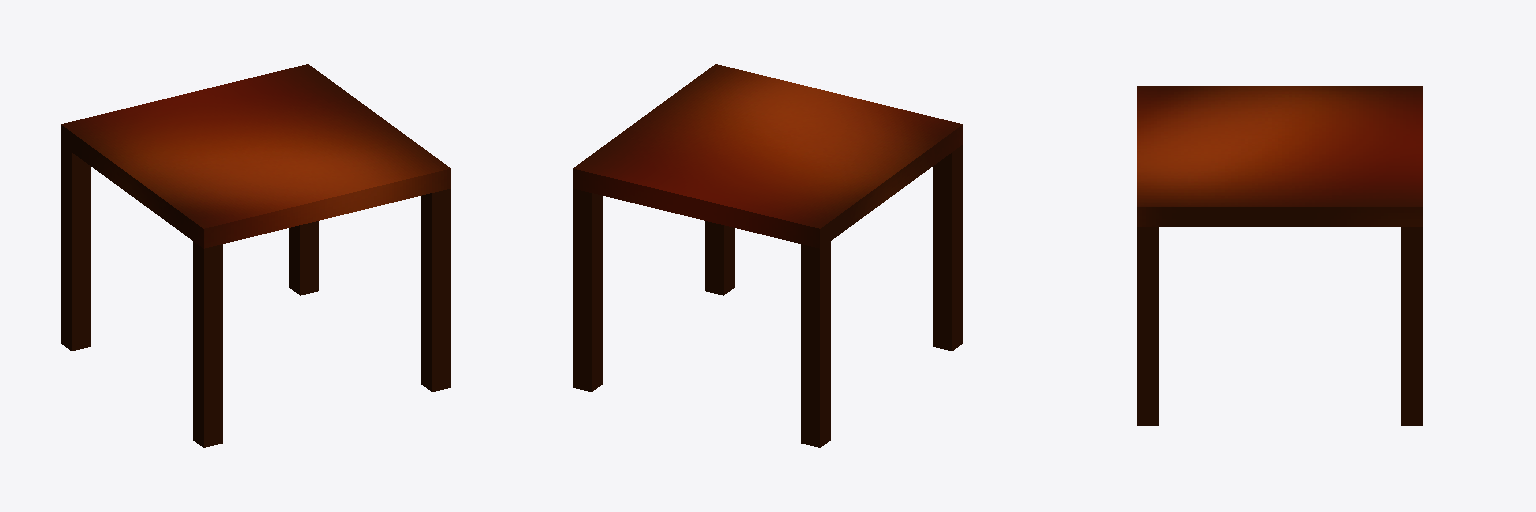
The picture shows the model from 3 angles: view 1: azimuth 30°, elevation 25°; view 2: azimuth 150°, elevation 25°; view 3: azimuth 270°, elevation 25°; orthographic projection.
Parts seen in each view (by area): view 1: pCube6; view 2: pCube6; view 3: pCube6.
Part boxes in pixels (bbox=[...]): pCube6: bbox=[61, 64, 450, 447]; pCube6: bbox=[573, 64, 962, 447]; pCube6: bbox=[1137, 86, 1422, 425].
Bounding box in the file's own units: 13 × 11 × 13.
Materials: 1 (1 with a texture image).